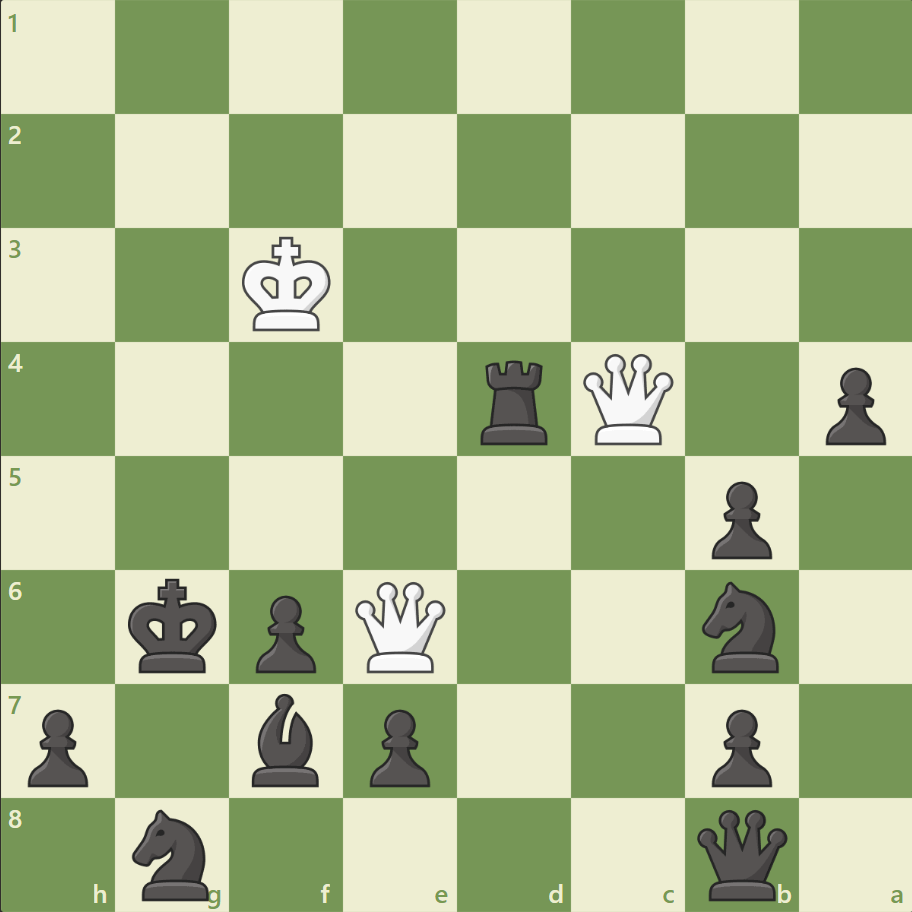K: (238, 231, 338, 339)
Q: (351, 576, 450, 676), (578, 349, 677, 449)
b: (244, 687, 328, 790)
k: (124, 571, 224, 679)
n: (124, 802, 222, 904), (692, 575, 789, 677)
p: (701, 700, 776, 791), (20, 700, 95, 791), (247, 586, 322, 677), (701, 473, 776, 564), (361, 700, 435, 791), (815, 359, 889, 450)
q: (691, 804, 790, 903)
r: (473, 352, 556, 449)
